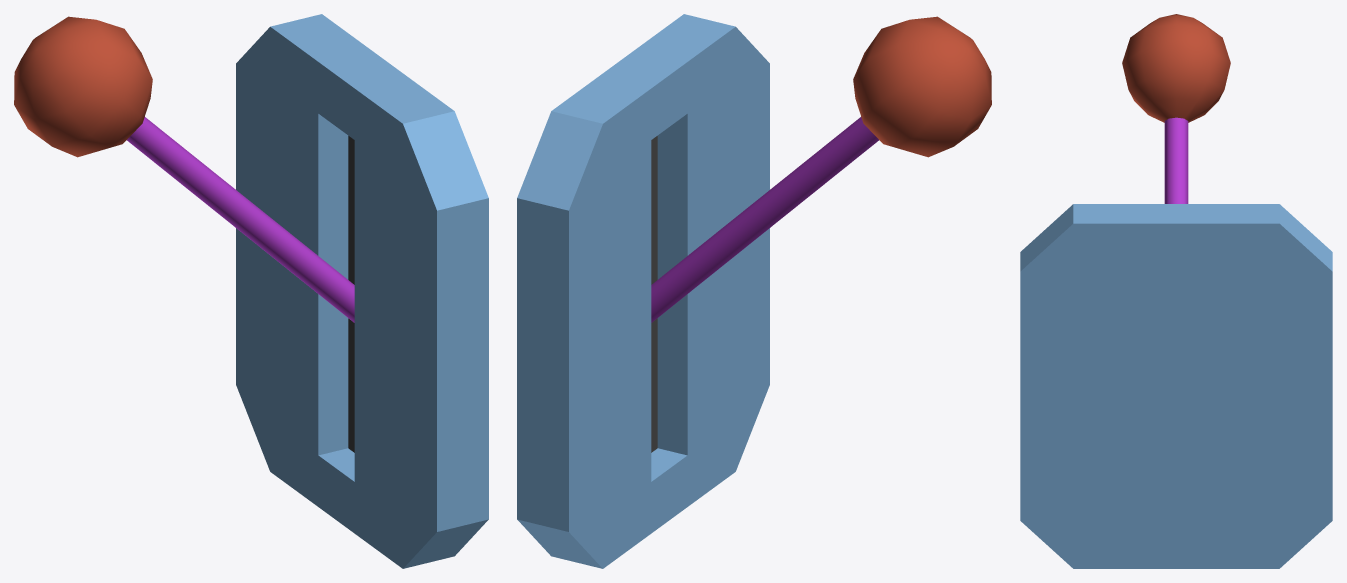
Rendered from control arm.fbx.
3 renders of one model, left to right at view 1: azimuth 30°, elevation 25°; view 2: azimuth 150°, elevation 25°; view 3: azimuth 270°, elevation 25°, orthographic. The views are drawn at different scales.
Visible parts, largest first — view 1: Box014, Line001; view 2: Box014, Line001; view 3: Box014, Line001.
Part boxes in pixels (left/top/right/bottom): Box014: left=236, top=14, right=488, bottom=568; Line001: left=14, top=16, right=354, bottom=322; Box014: left=517, top=14, right=769, bottom=568; Line001: left=651, top=16, right=991, bottom=322; Box014: left=1020, top=204, right=1332, bottom=568; Line001: left=1122, top=14, right=1230, bottom=203.
Bounding box in the file's own units: 16.6 × 15.89 × 24.38.
